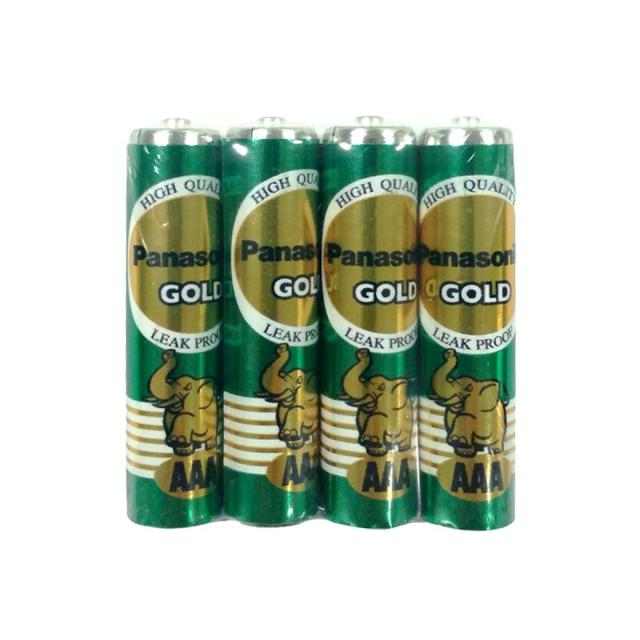battery: (77, 111, 225, 554)
